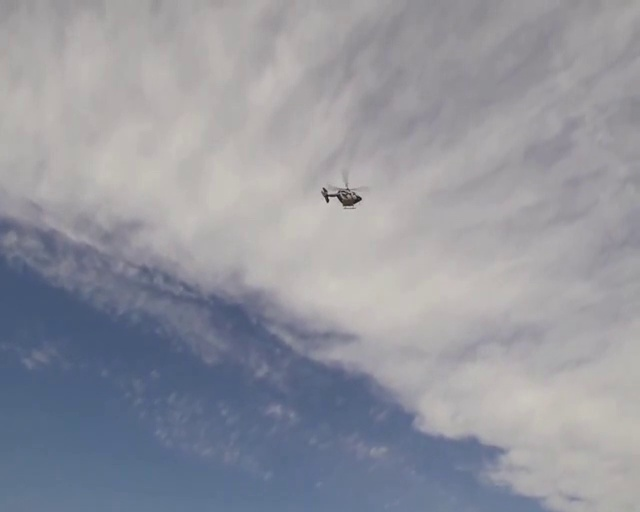HELICOPTER: (321, 172, 364, 210)
